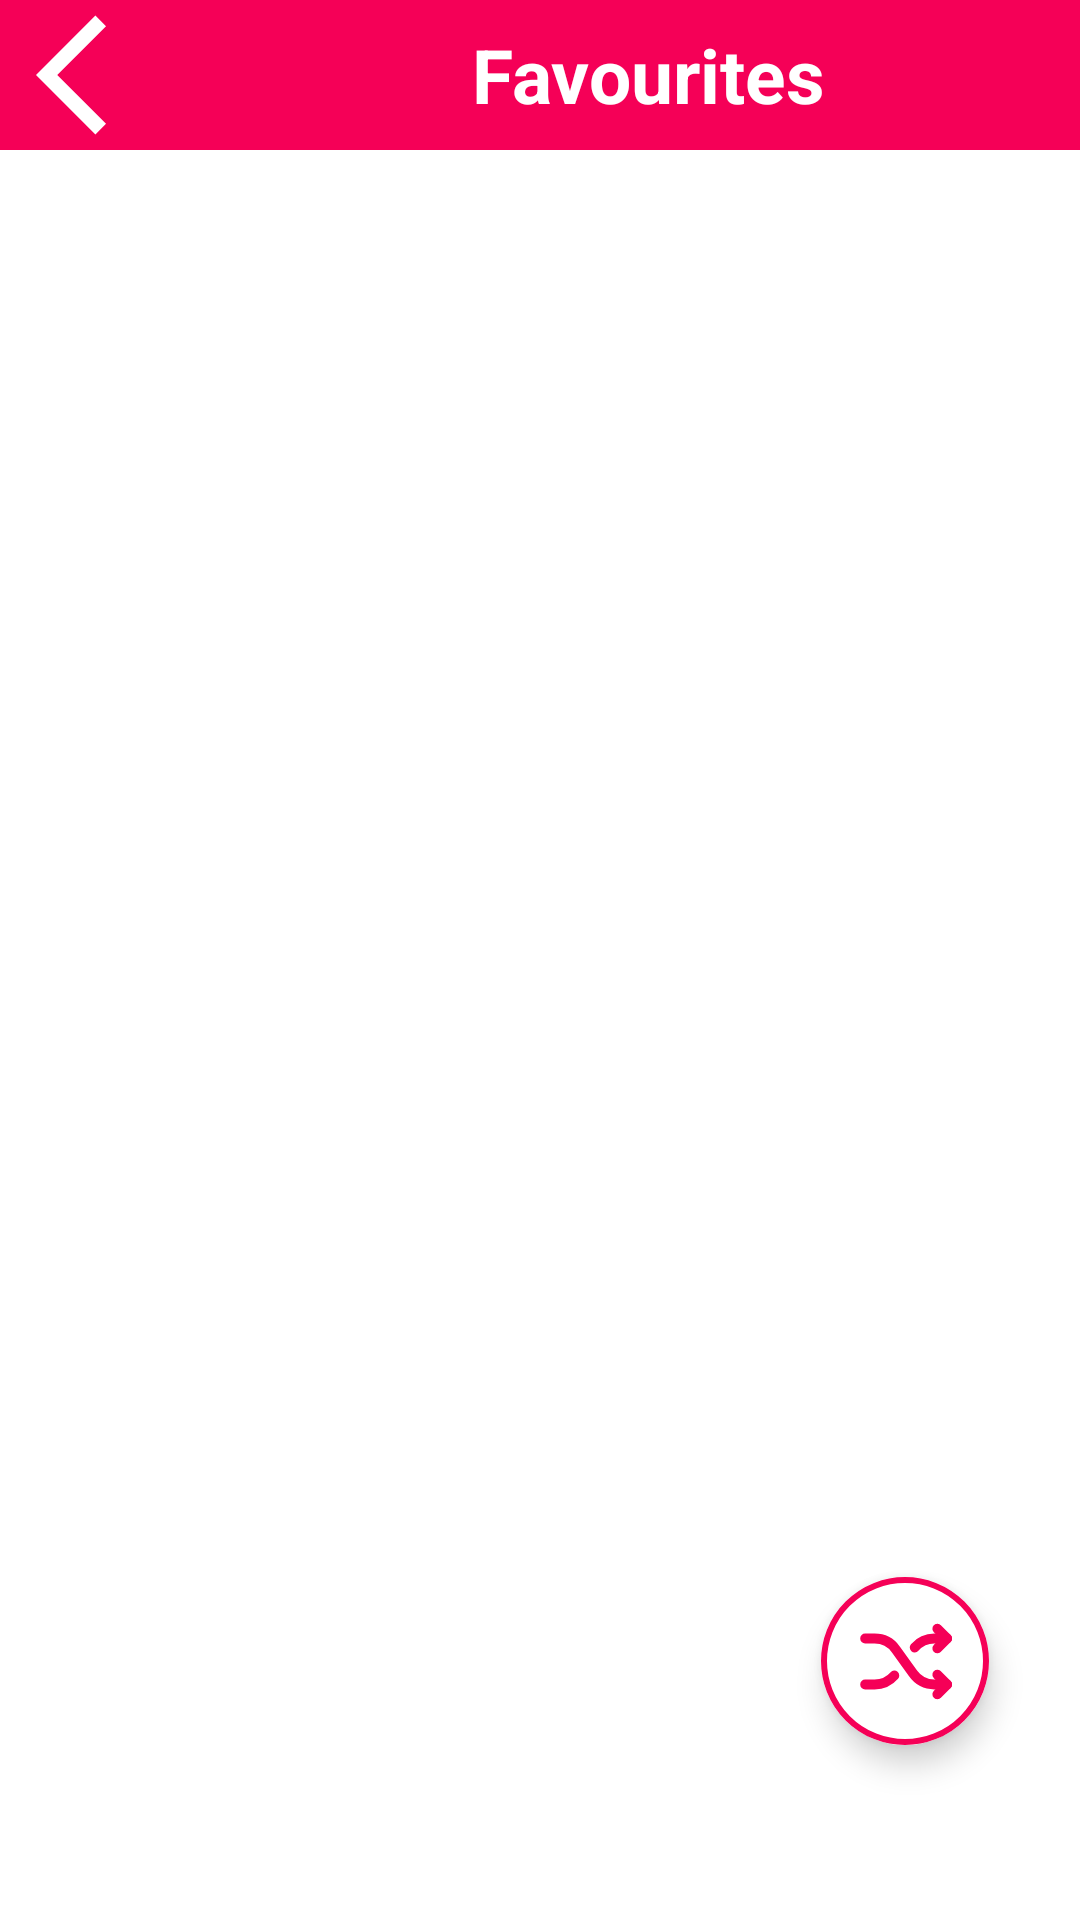

Icons on this 1080*1920 Android screen, each with the point to tap as [x,y]:
Back: [71,75]
shuffle: [905,1661]
